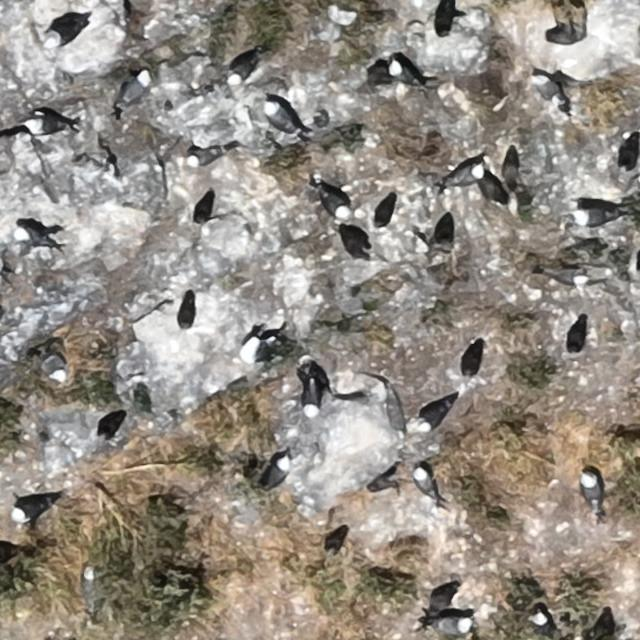umineko: (43, 12, 92, 50), (263, 98, 303, 136), (241, 332, 285, 363), (260, 453, 292, 493), (389, 58, 426, 89), (528, 74, 566, 104), (21, 115, 73, 136), (14, 227, 57, 250), (39, 352, 68, 382), (122, 73, 147, 105), (433, 617, 473, 636), (321, 190, 349, 217), (449, 164, 485, 185), (546, 267, 587, 284), (582, 472, 601, 508), (420, 404, 448, 428), (575, 210, 611, 227), (303, 379, 319, 416), (14, 503, 45, 522), (230, 58, 254, 82), (414, 468, 433, 498), (187, 152, 221, 166), (84, 566, 95, 598)
